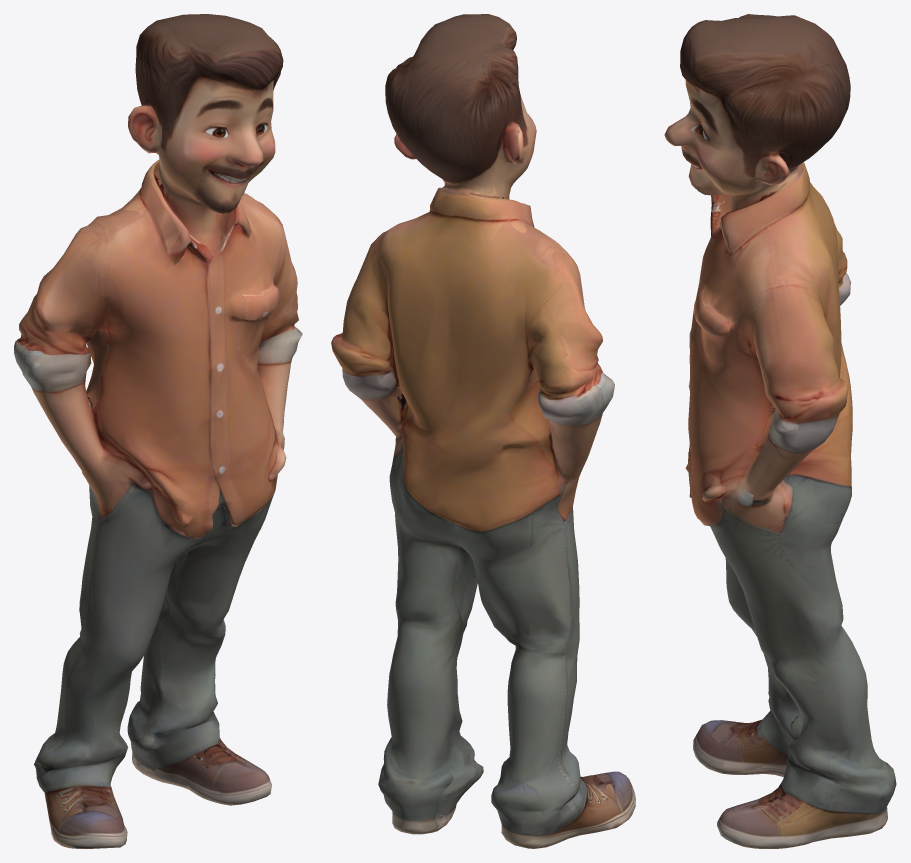
File: father.glb
3 renders of one model, left to right at view 1: azimuth 30°, elevation 25°; view 2: azimuth 150°, elevation 25°; view 3: azimuth 270°, elevation 25°, orthographic. The views are drawn at different scales.
Bounding box in the file's own units: 23887 × 65634 × 17212.
1 material, 1 textured.
